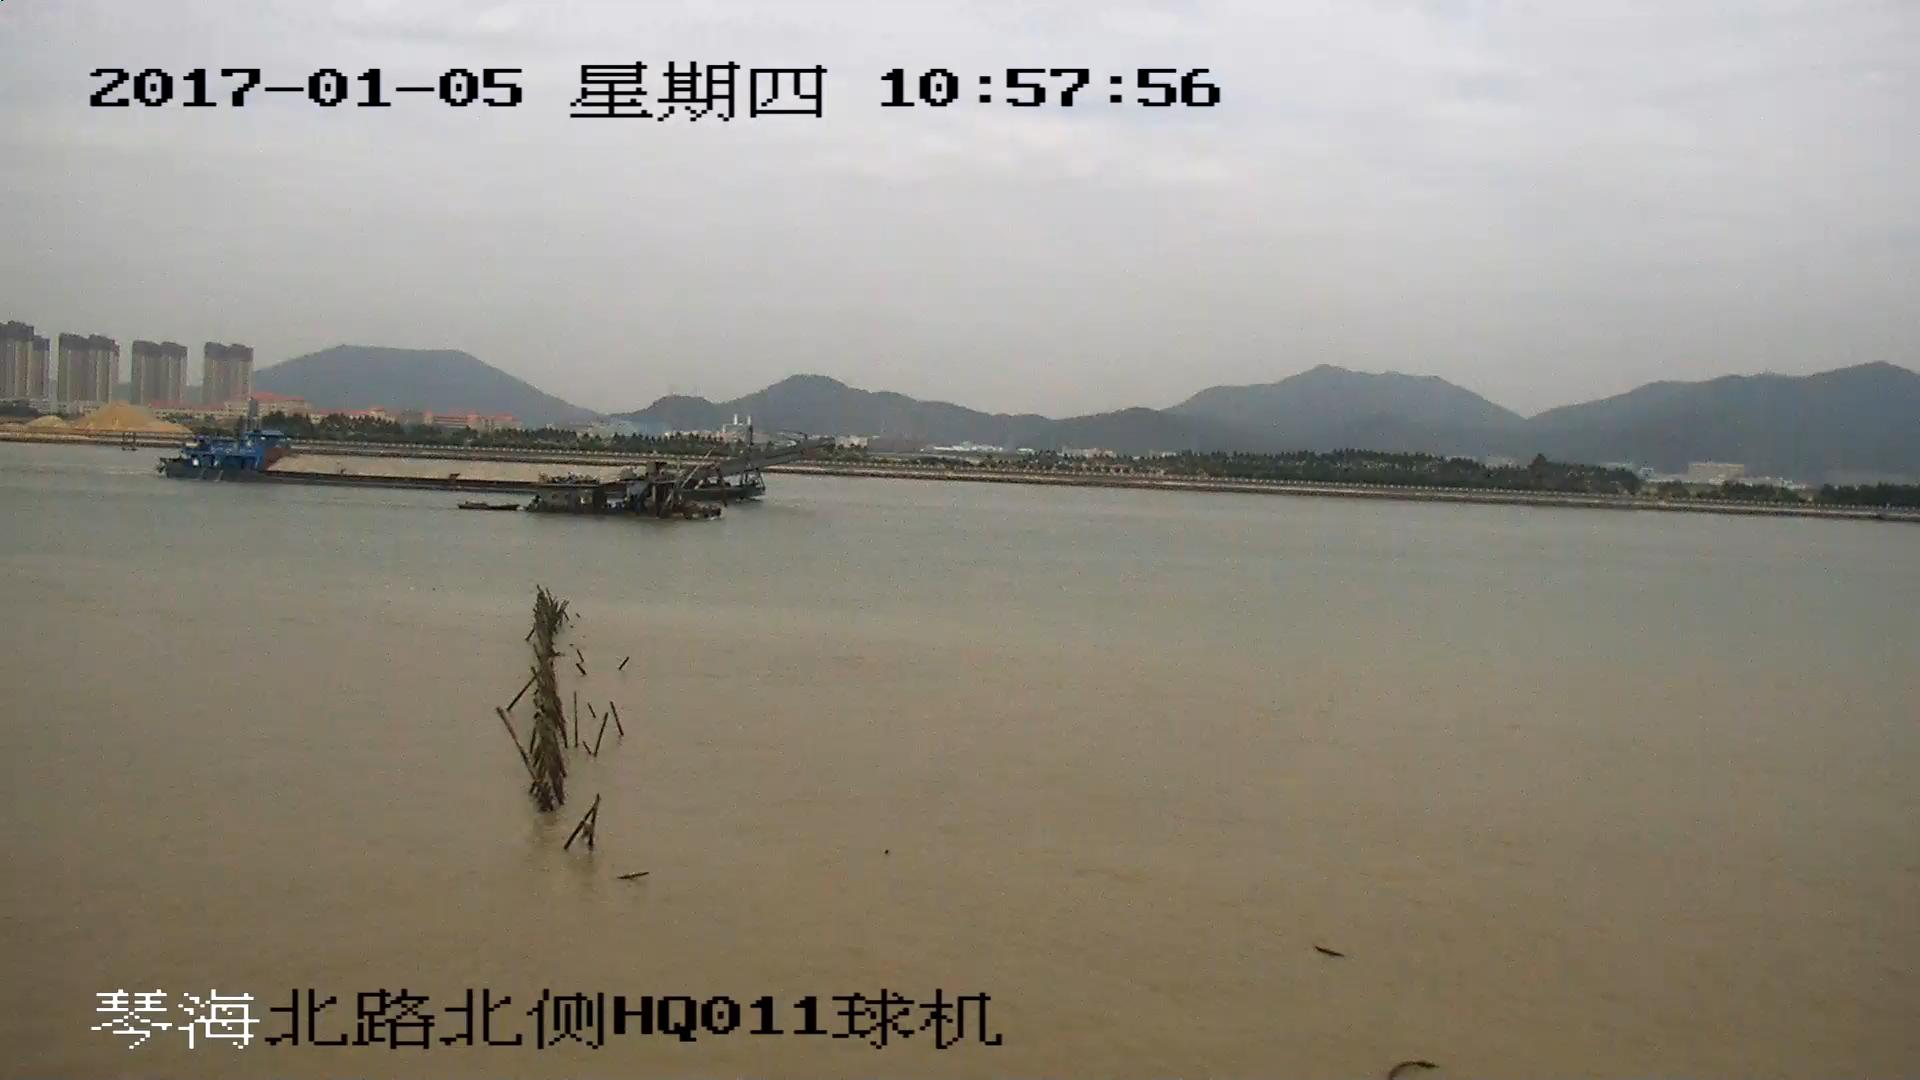ore carrier: (152, 432, 842, 516)
